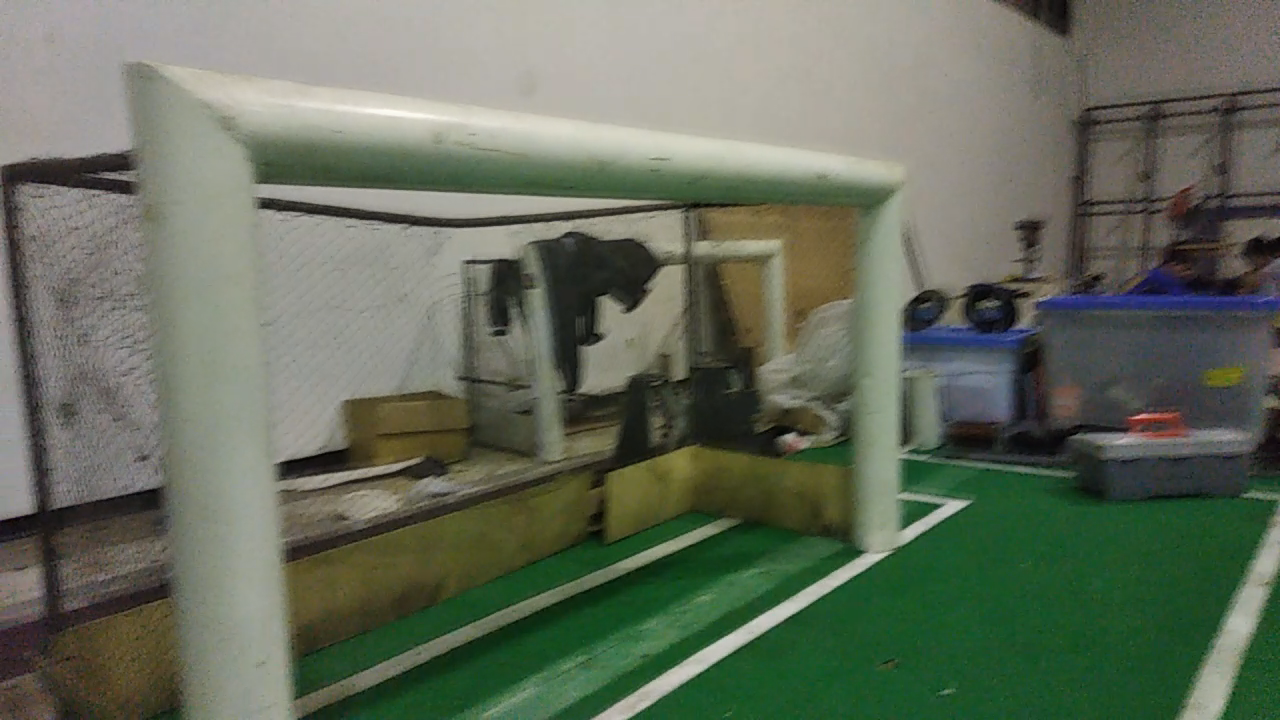gawang: (105, 49, 922, 719)
